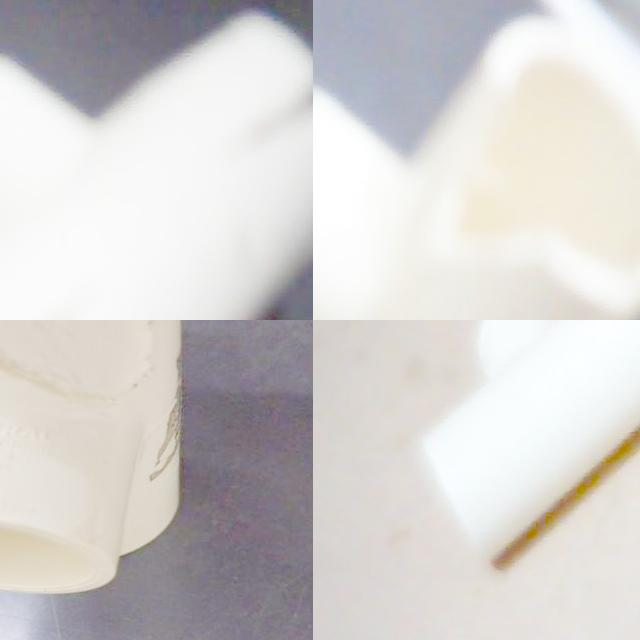Defective: (444, 52, 567, 310), (244, 52, 313, 242), (0, 320, 88, 415), (134, 320, 164, 413), (146, 436, 184, 489)
T Joint: (313, 0, 640, 320), (0, 12, 313, 320), (415, 320, 640, 573)
